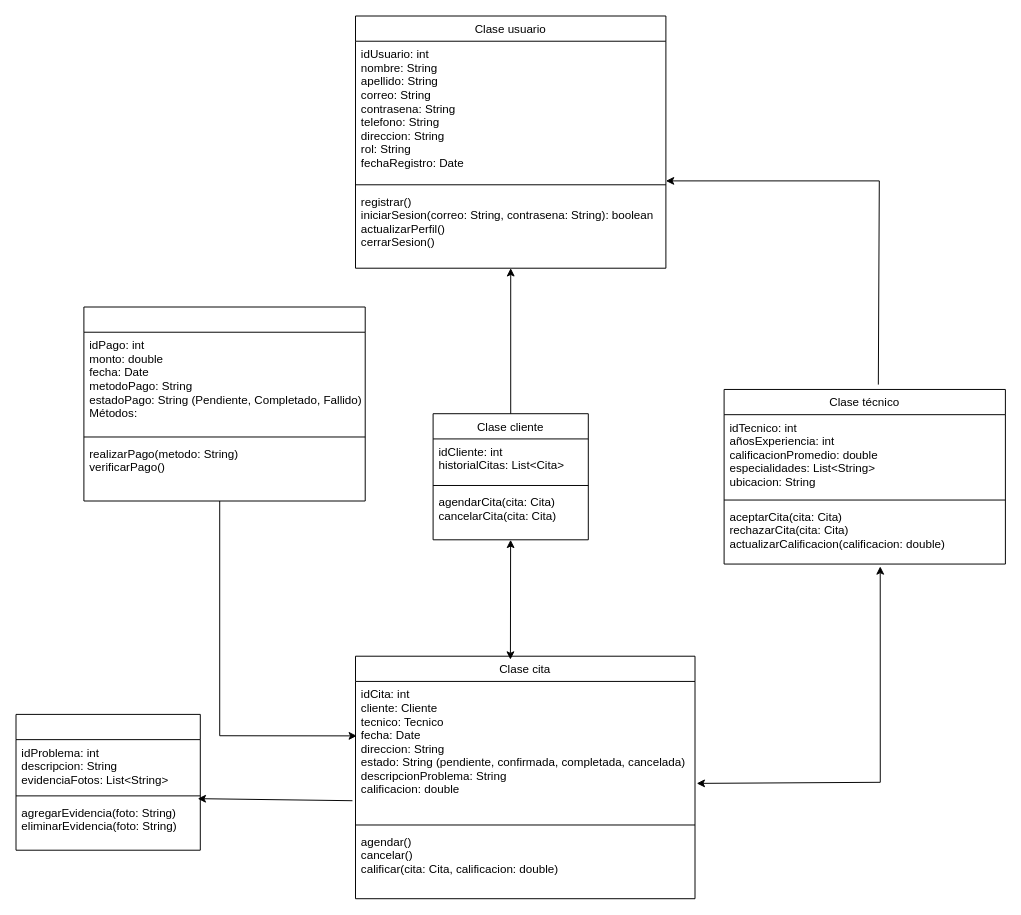
Some shapes in this 1021 by 915 pixel diagram are drawn without their labels. The shapes that lost their labels are listed below. From the top down, each one's box as (x1, y1, x2, y2) in pixels, then its label:
(83, 306, 365, 501): Clase pago
(15, 713, 200, 850): Clase problema
